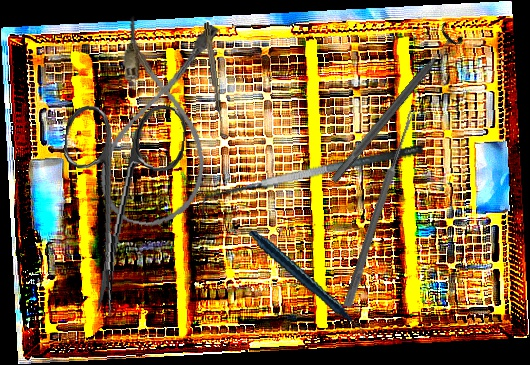Cannula: (93, 11, 227, 234)
Fixation Ring: (321, 20, 467, 191)
Handpiece: (248, 212, 366, 359)
Hook Surgical: (203, 22, 225, 128)
Iris Scissors: (47, 96, 188, 323)
Spatula Surgical: (195, 143, 428, 217)
Surgical Spoon: (343, 107, 417, 309)
